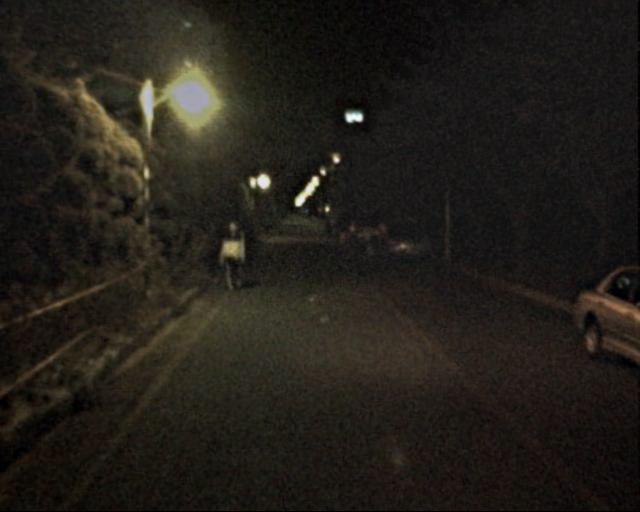person: (218, 221, 248, 295), (362, 225, 378, 265), (326, 221, 344, 244)
